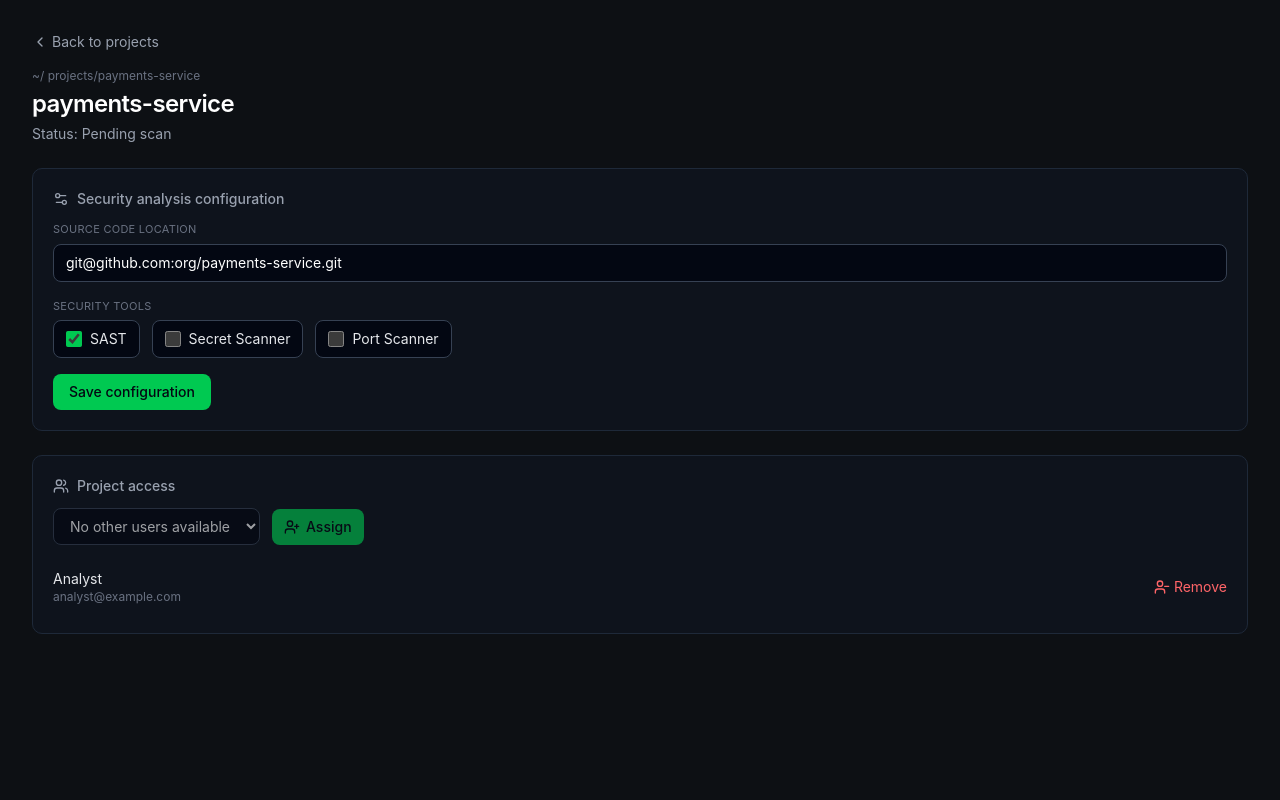
Test: ProjectDetailView › removes an existing assignment
Click the button "Remove": (1190, 587) [1154,577,1227,597]
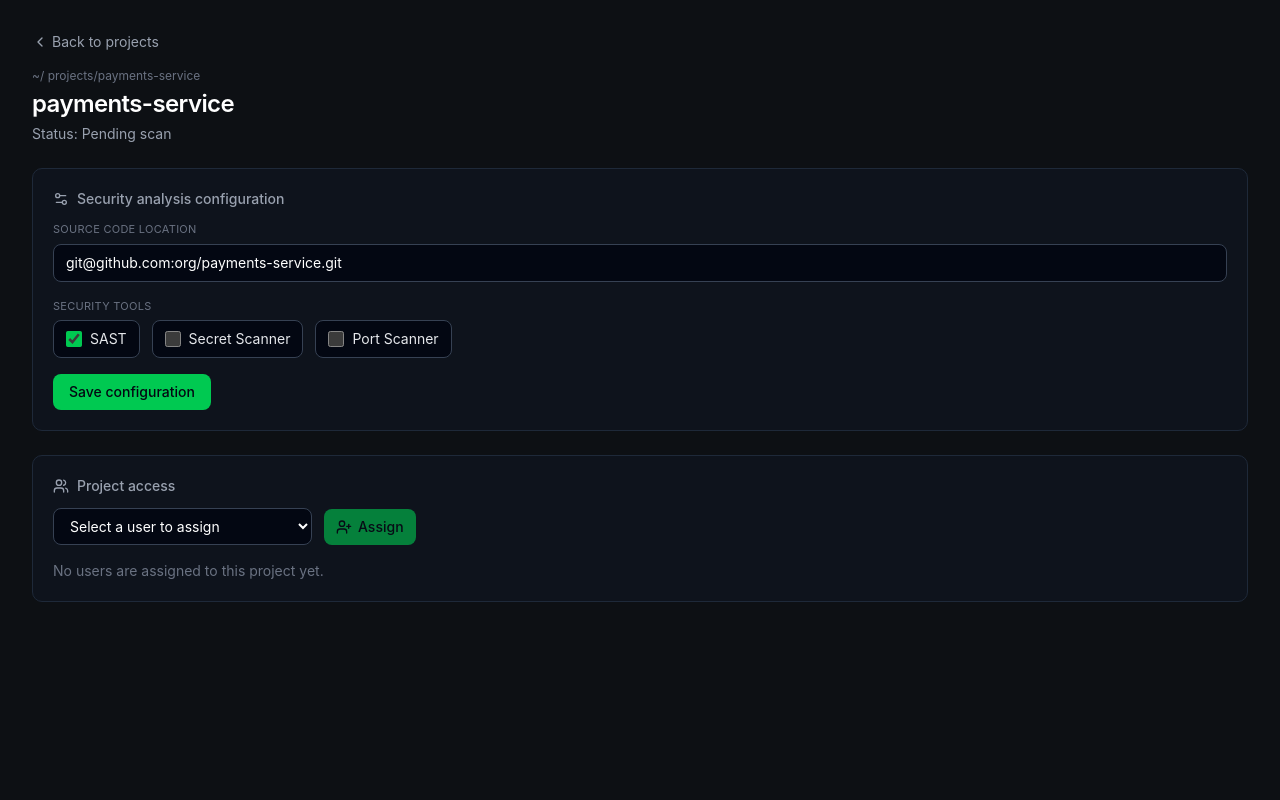
Expected: the text "No users are assigned to this project yet." is shown, [53,562,324,579]
